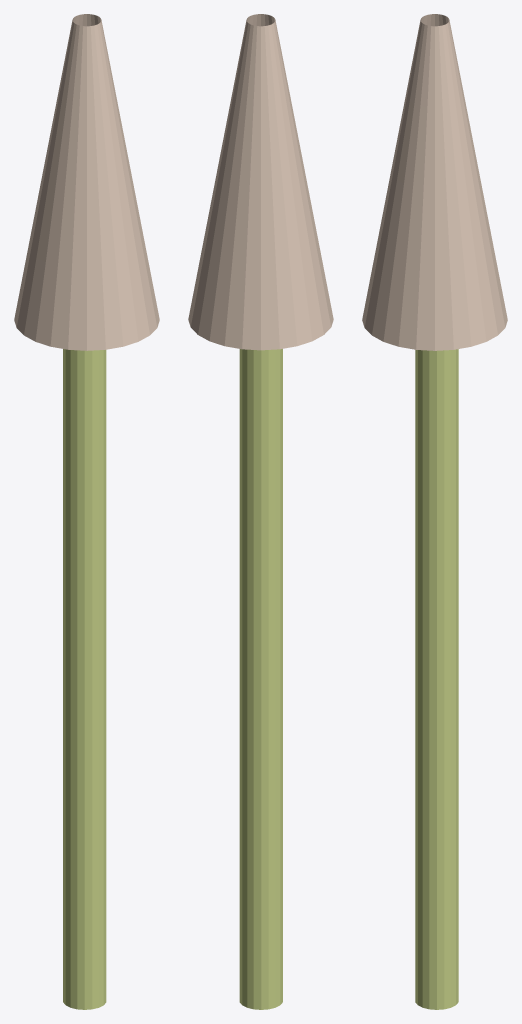
The picture shows the model from 3 angles, left to right: view 1: azimuth 30°, elevation 25°; view 2: azimuth 150°, elevation 25°; view 3: azimuth 270°, elevation 25°; orthographic projection.
Parts seen in each view (by area): view 1: y; view 2: y; view 3: y.
Part boxes in pixels (x1=…): y: x1=14, y1=14, x2=159, y2=1009; y: x1=188, y1=14, x2=333, y2=1009; y: x1=362, y1=14, x2=507, y2=1009.
Bounding box in the file's own units: 0.1268 × 0.1268 × 0.9421.
